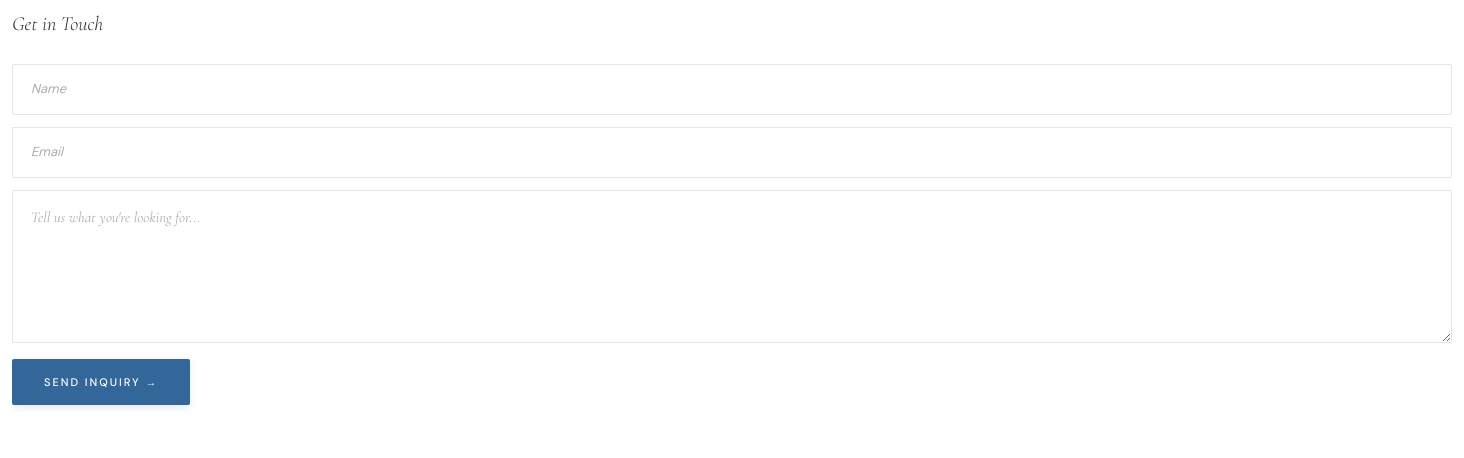
Test case: InquireForm › blocks submission after rate limit is hit
In the field with placeholder "Name": [732, 89] box [12,64,1452,115], type "Test User"
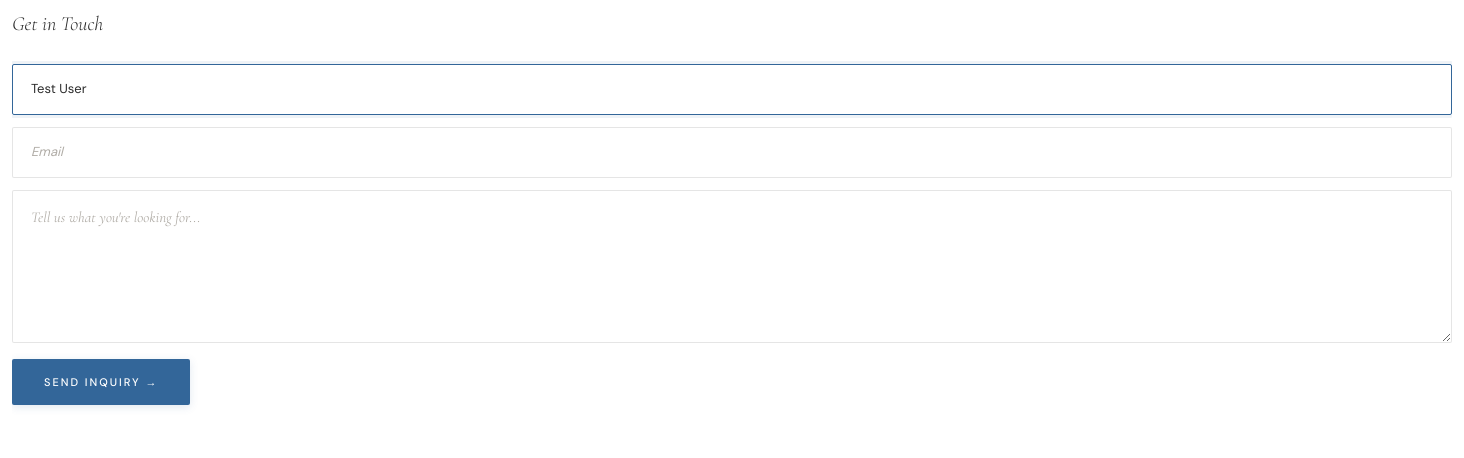
In the field with placeholder "Email": [732, 152] box [12,127,1452,178], type "test@example.com"
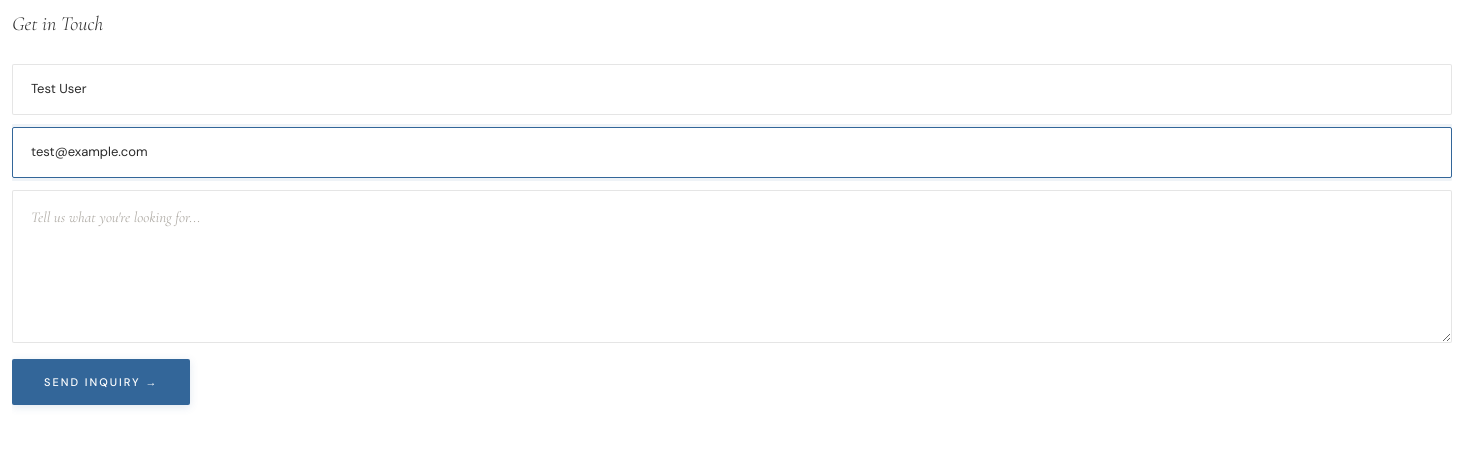
In the text box with placeholder "Tell us what you're looking for...": [732, 266] box [12,190,1452,343], type "Hello"
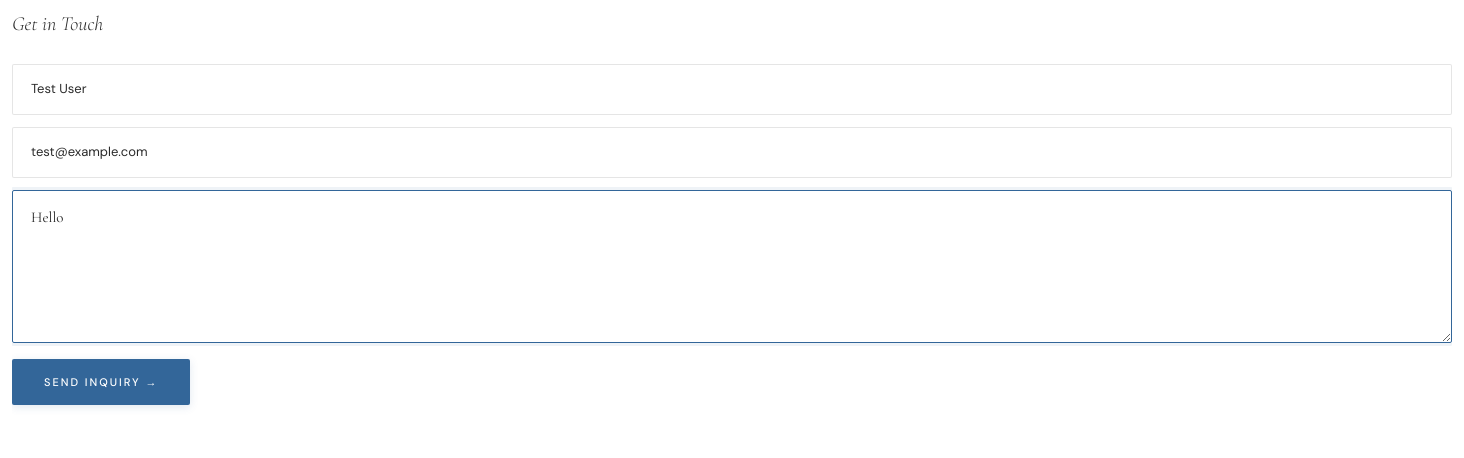
Click the button "Send Inquiry →": [101, 382] box [12,359,190,405]
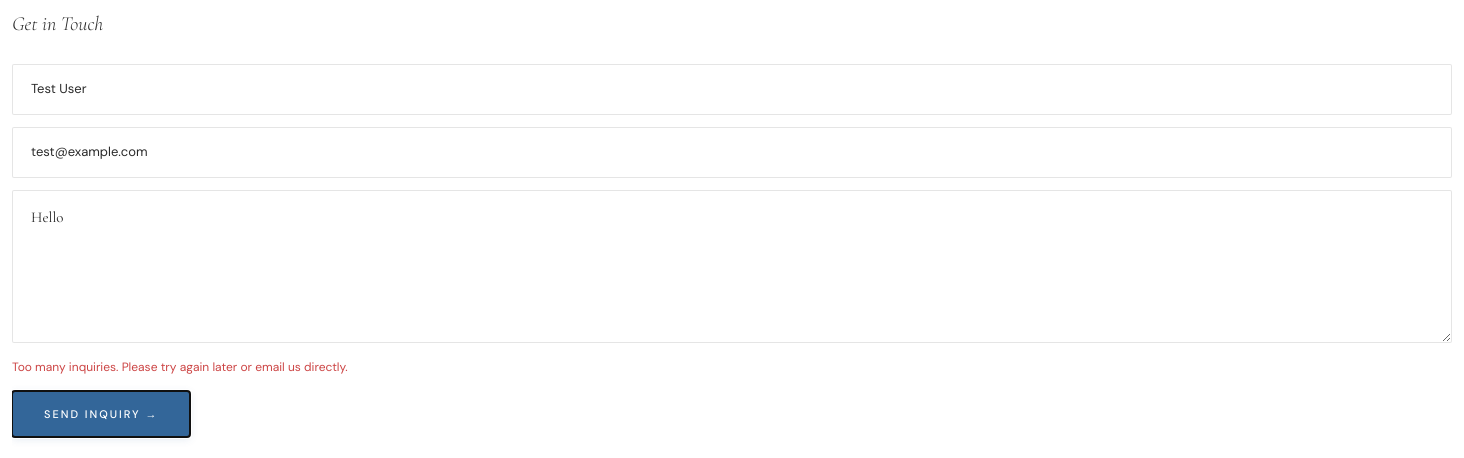
Expected: the text "Too many inquiries" is shown, [12,359,348,375]
